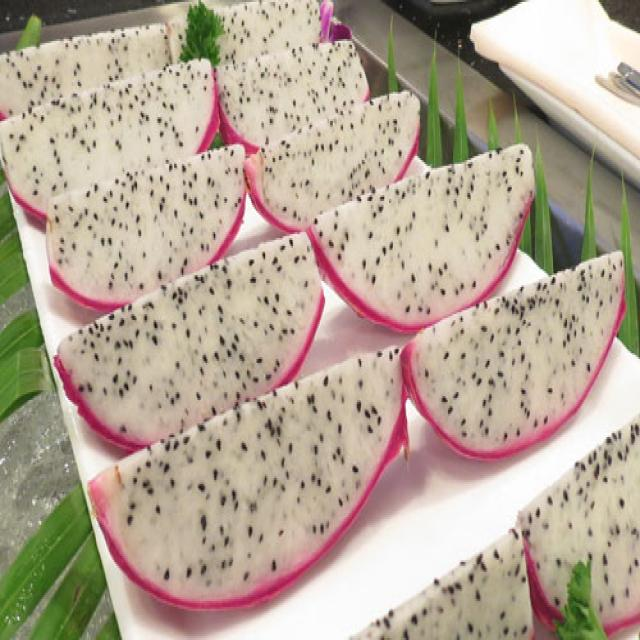thanh long: (88, 347, 403, 607), (55, 236, 324, 451), (410, 252, 622, 459), (308, 144, 532, 332), (0, 60, 216, 219), (46, 146, 243, 310), (246, 92, 419, 232), (0, 8, 187, 117), (216, 41, 367, 148), (219, 0, 320, 60)
